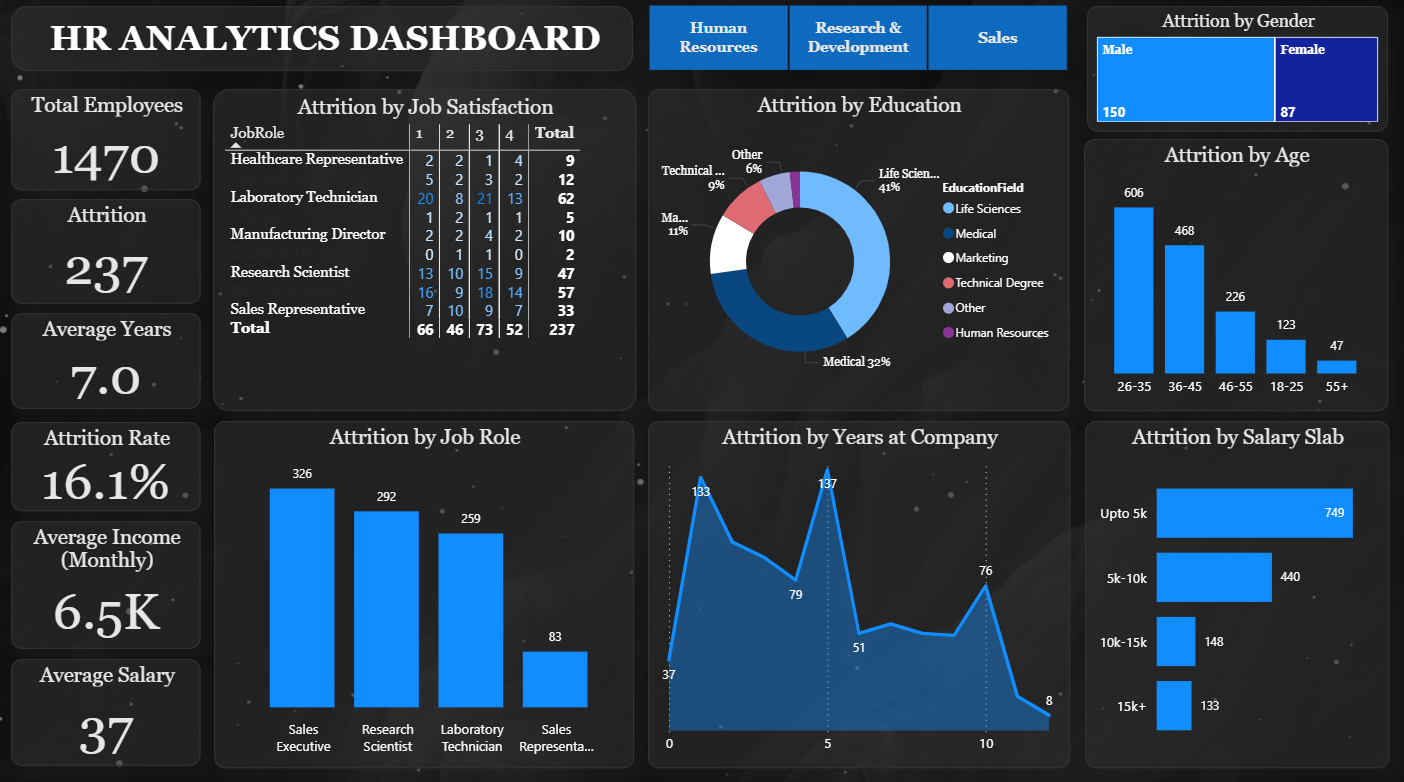

This screenshot's page, from the dashboard's own definition file:
{"tool":"powerbi","page":{"name":"Page 1","canvas":[1280,720],"ordinal":0},"visuals":[{"type":"card","title":"Total Employees","fields":{"Values":["CountNonNull(HR_Analytics.EmpID)"]},"box":[17.2,88,172.3,92.5],"z":0},{"type":"card","title":"Attrition","fields":{"Values":["Sum(HR_Analytics.AttritionCount)"]},"box":[17.2,187.7,172.3,95.2],"z":1000},{"type":"card","title":"Attrition Rate","fields":{"Values":["HR_Analytics.AttritionRate"]},"box":[17.2,389.9,172.3,80.7],"z":2000},{"type":"card","title":"Average Salary","fields":{"Values":["Avg(HR_Analytics.Age)"]},"box":[17.2,604.8,172.3,97],"z":3000},{"type":"card","title":"Average Years","fields":{"Values":["Avg(HR_Analytics.YearsAtCompany)"]},"box":[17.2,291.1,172.3,87.1],"z":4000},{"type":"card","title":"Average Income (Monthly)","fields":{"Values":["Avg(HR_Analytics.MonthlyIncome)"]},"box":[17.2,479.7,172.3,116.1],"z":5000},{"type":"donutChart","title":"Attrition by Education","fields":{"Category":["HR_Analytics.EducationField"],"Y":["CountNonNull(HR_Analytics.Attrition)"]},"box":[594.9,88,381.8,292],"z":6000},{"type":"clusteredColumnChart","title":"Attrition by Age","fields":{"Category":["HR_Analytics.AgeGroup"],"Y":["CountNonNull(HR_Analytics.Attrition)"]},"box":[990.2,133.3,275.7,246.6],"z":7000},{"type":"pivotTable","title":"Attrition by Job Satisfaction","fields":{"Rows":["HR_Analytics.JobRole"],"Columns":["HR_Analytics.JobSatisfaction"],"Values":["Sum(HR_Analytics.AttritionCount)"]},"box":[200.4,88,383.6,292],"z":8000},{"type":"barChart","title":"Attrition by Salary Slab","fields":{"Category":["HR_Analytics.SalarySlab"],"Y":["CountNonNull(HR_Analytics.Attrition)"]},"box":[991.1,389,275.7,314.7],"z":9000},{"type":"clusteredColumnChart","title":"Attrition by Job Role","fields":{"Y":["CountNonNull(HR_Analytics.Attrition)"],"Category":["HR_Analytics.JobRole"]},"box":[201.2,389,380.9,314.7],"z":10000},{"type":"areaChart","title":"Attrition by Years at Company","fields":{"Category":["HR_Analytics.YearsAtCompany"],"Y":["CountNonNull(HR_Analytics.Attrition)"]},"box":[594.9,389,382.7,314.7],"z":11000},{"type":"slicer","fields":{"Values":["HR_Analytics.Department"]},"box":[570.4,5.4,428,66.2],"z":12000},{"type":"treemap","title":"Attrition by Gender","fields":{"Group":["HR_Analytics.Gender"],"Values":["Sum(HR_Analytics.AttritionCount)"]},"box":[992.9,12.7,272.9,114.3],"z":13000},{"type":"textbox","box":[17.5,12.6,564.1,59.3],"z":14000}]}

Visuals, with their boxes in screenshot pixels (x1, y1, x2, y2), scaled from the page's 1280x720 canvas onto the 1404x782 screenshot:
"Total Employees" card: bbox=(19, 96, 208, 196)
"Attrition" card: bbox=(19, 204, 208, 307)
"Attrition Rate" card: bbox=(19, 423, 208, 511)
"Average Salary" card: bbox=(19, 657, 208, 762)
"Average Years" card: bbox=(19, 316, 208, 411)
"Average Income (Monthly)" card: bbox=(19, 521, 208, 647)
"Attrition by Education" donutChart: bbox=(653, 96, 1071, 413)
"Attrition by Age" clusteredColumnChart: bbox=(1086, 145, 1389, 413)
"Attrition by Job Satisfaction" pivotTable: bbox=(220, 96, 641, 413)
"Attrition by Salary Slab" barChart: bbox=(1087, 422, 1390, 764)
"Attrition by Job Role" clusteredColumnChart: bbox=(221, 422, 638, 764)
"Attrition by Years at Company" areaChart: bbox=(653, 422, 1072, 764)
slicer - HR_Analytics.Department: bbox=(626, 6, 1095, 78)
"Attrition by Gender" treemap: bbox=(1089, 14, 1388, 138)
textbox: bbox=(19, 14, 638, 78)
